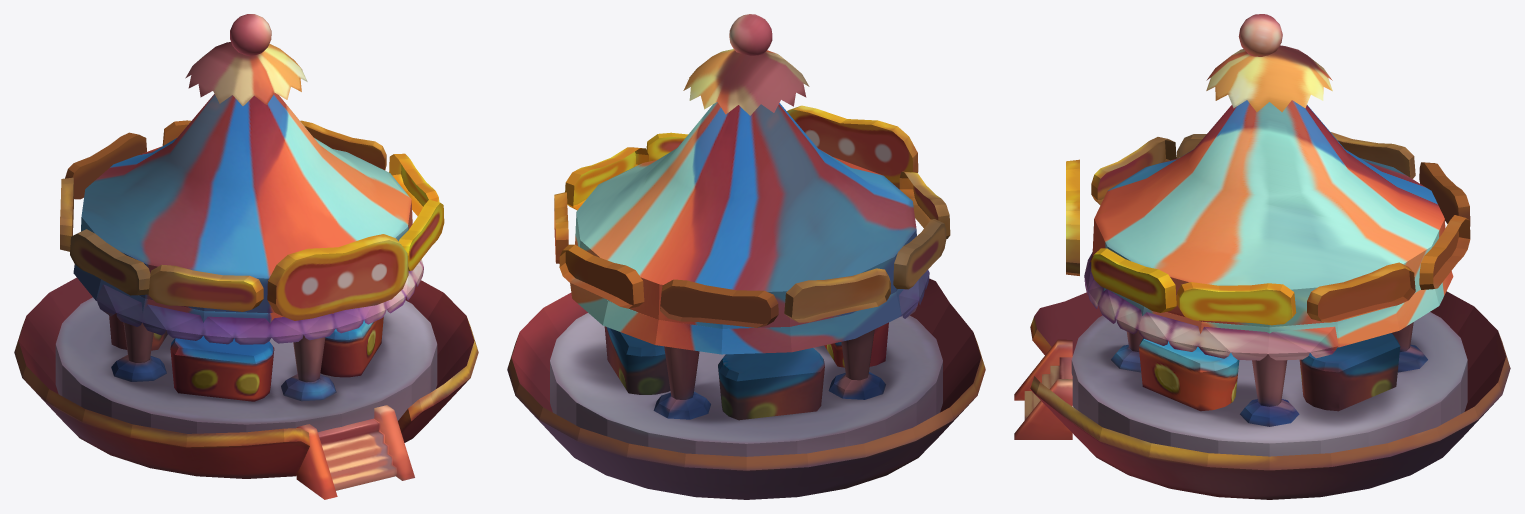
The model's file is stage_carnival_3.fbx.
3 renders of one model, left to right at view 1: azimuth 30°, elevation 25°; view 2: azimuth 150°, elevation 25°; view 3: azimuth 270°, elevation 25°, orthographic. The views are drawn at different scales.
Visible parts, largest first — view 1: 3, 2, 1; view 2: 3, 2, 1; view 3: 3, 2, 1.
Part boxes in pixels (x1,y1,x2,y2): 3: [60, 14, 444, 344]; 2: [55, 264, 437, 433]; 1: [14, 277, 478, 499]; 3: [554, 14, 950, 328]; 2: [550, 276, 942, 456]; 1: [507, 278, 985, 499]; 3: [1066, 14, 1470, 360]; 2: [1071, 254, 1467, 456]; 1: [1014, 291, 1510, 499].
Size of the model in its own units: 247 by 228 by 254.
